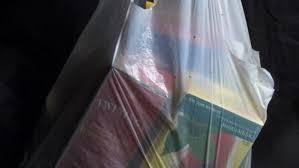Plastic bag: (22, 1, 288, 168)
